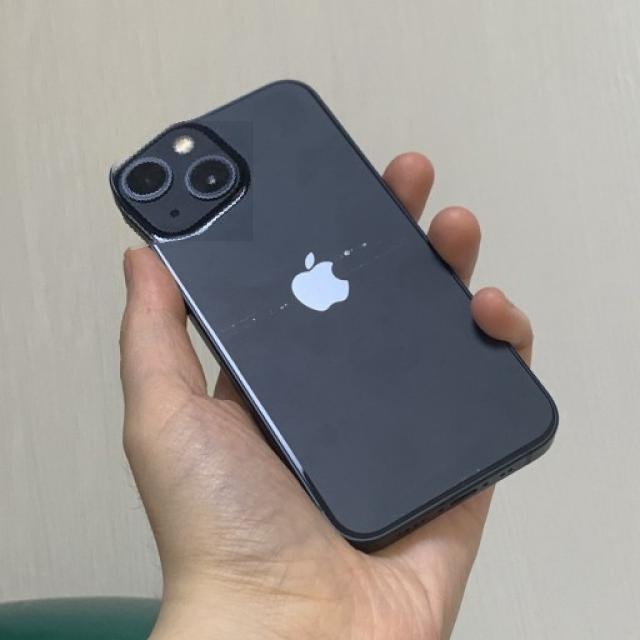lens: (121, 137, 236, 210)
phone: (104, 77, 564, 538)
